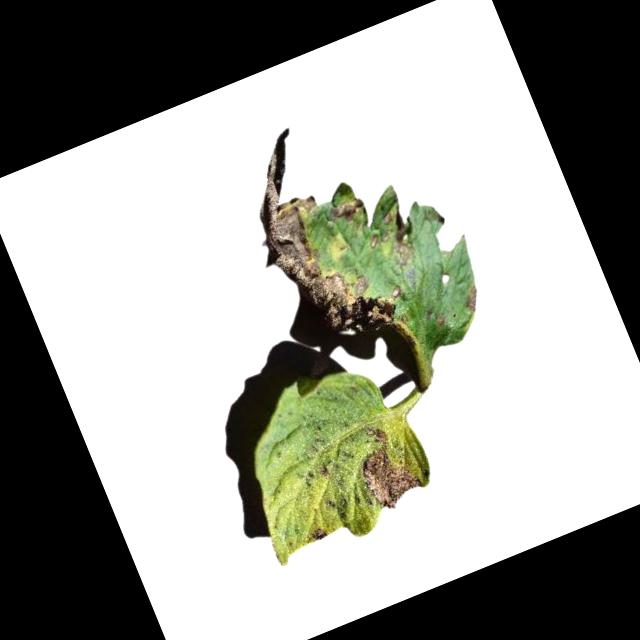Early_blight: (230, 112, 400, 348), (345, 414, 426, 515), (362, 201, 427, 274), (455, 280, 486, 317), (305, 523, 329, 545)
